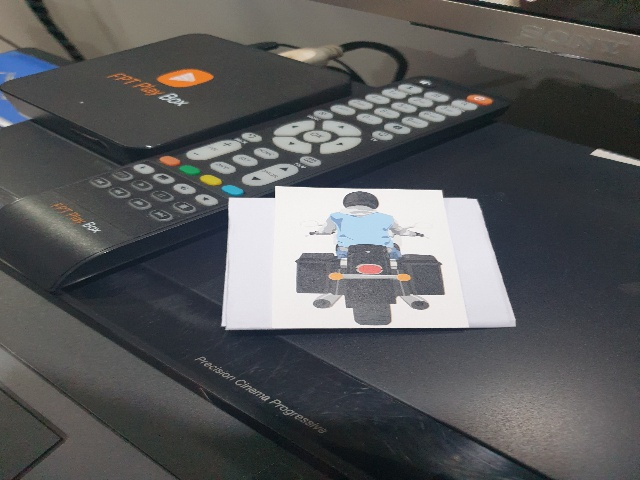Motorcycle: (292, 190, 454, 326)
